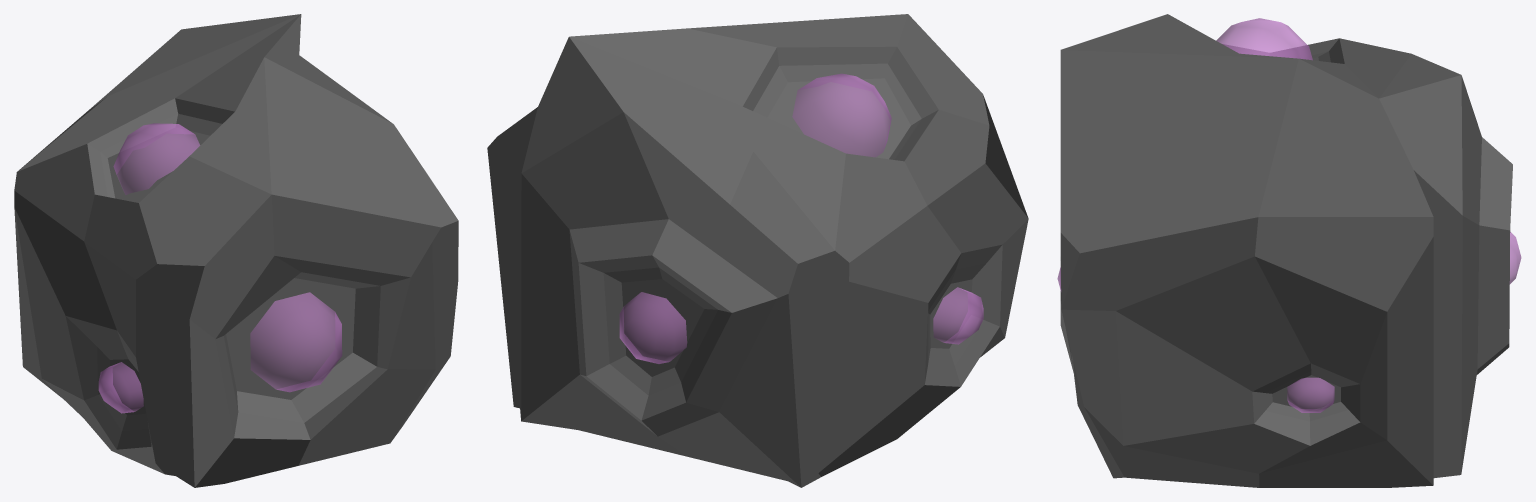
Rendered from NiceRock.fbx.
3 renders of one model, left to right at view 1: azimuth 30°, elevation 25°; view 2: azimuth 150°, elevation 25°; view 3: azimuth 270°, elevation 25°, orthographic. The views are drawn at different scales.
Parts seen in each view (by area): view 1: Main rock; view 2: Main rock; view 3: Main rock.
Part boxes in pixels (x1,y1,x2,y2): Main rock: [14, 14, 458, 487]; Main rock: [487, 14, 1028, 487]; Main rock: [1057, 14, 1521, 487].
Bounding box in the file's own units: 230 × 220 × 235.
